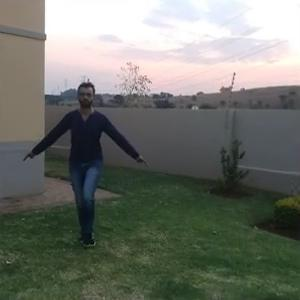land: (41, 87, 143, 217)
